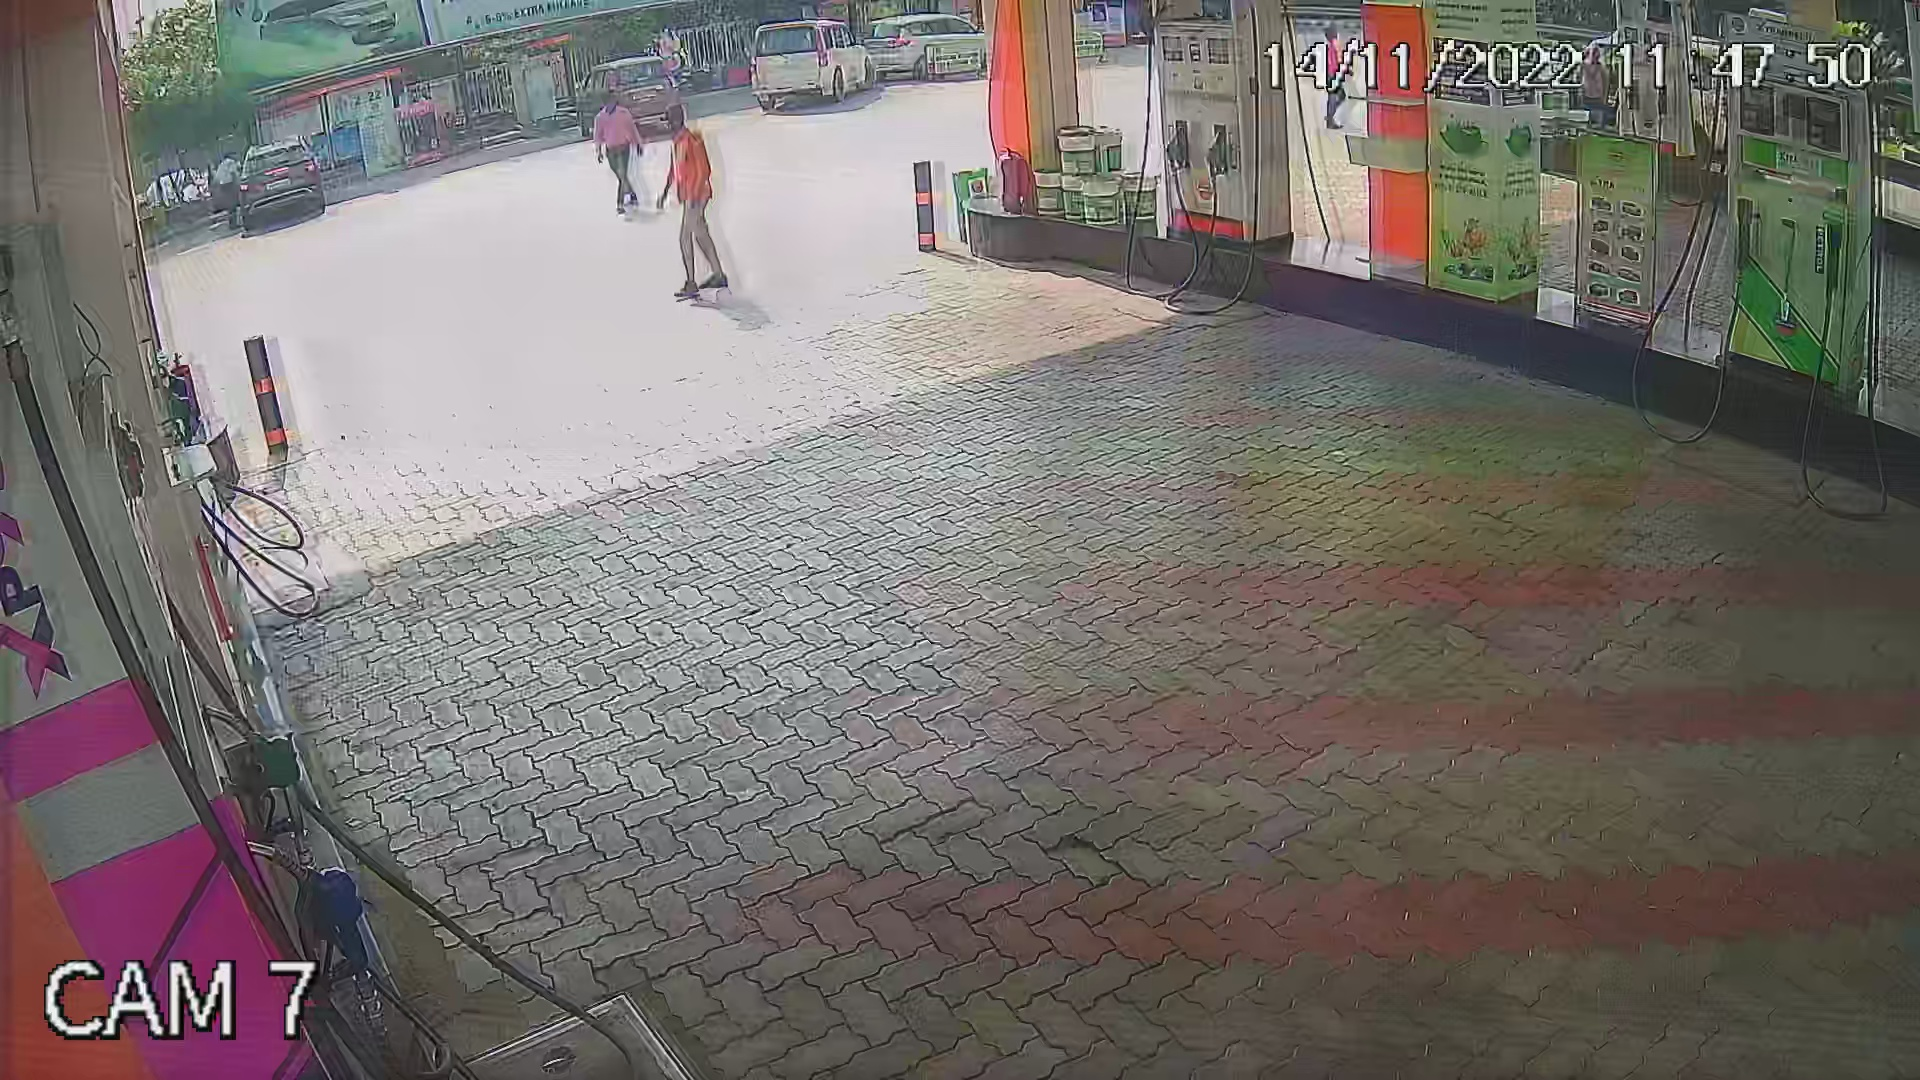Car: (748, 8, 885, 117), (200, 133, 330, 236), (864, 0, 988, 87), (567, 53, 686, 137)
Others: (647, 100, 727, 301)
